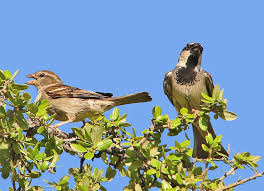home_sparrow: (150, 38, 248, 172), (21, 64, 153, 140)
